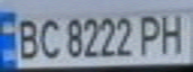2: (96, 11, 121, 60), (115, 11, 139, 57), (81, 12, 100, 60)
8: (60, 12, 84, 60)
B: (9, 14, 42, 61)
C: (36, 13, 63, 60)
H: (154, 9, 190, 55)
P: (136, 10, 166, 56)
